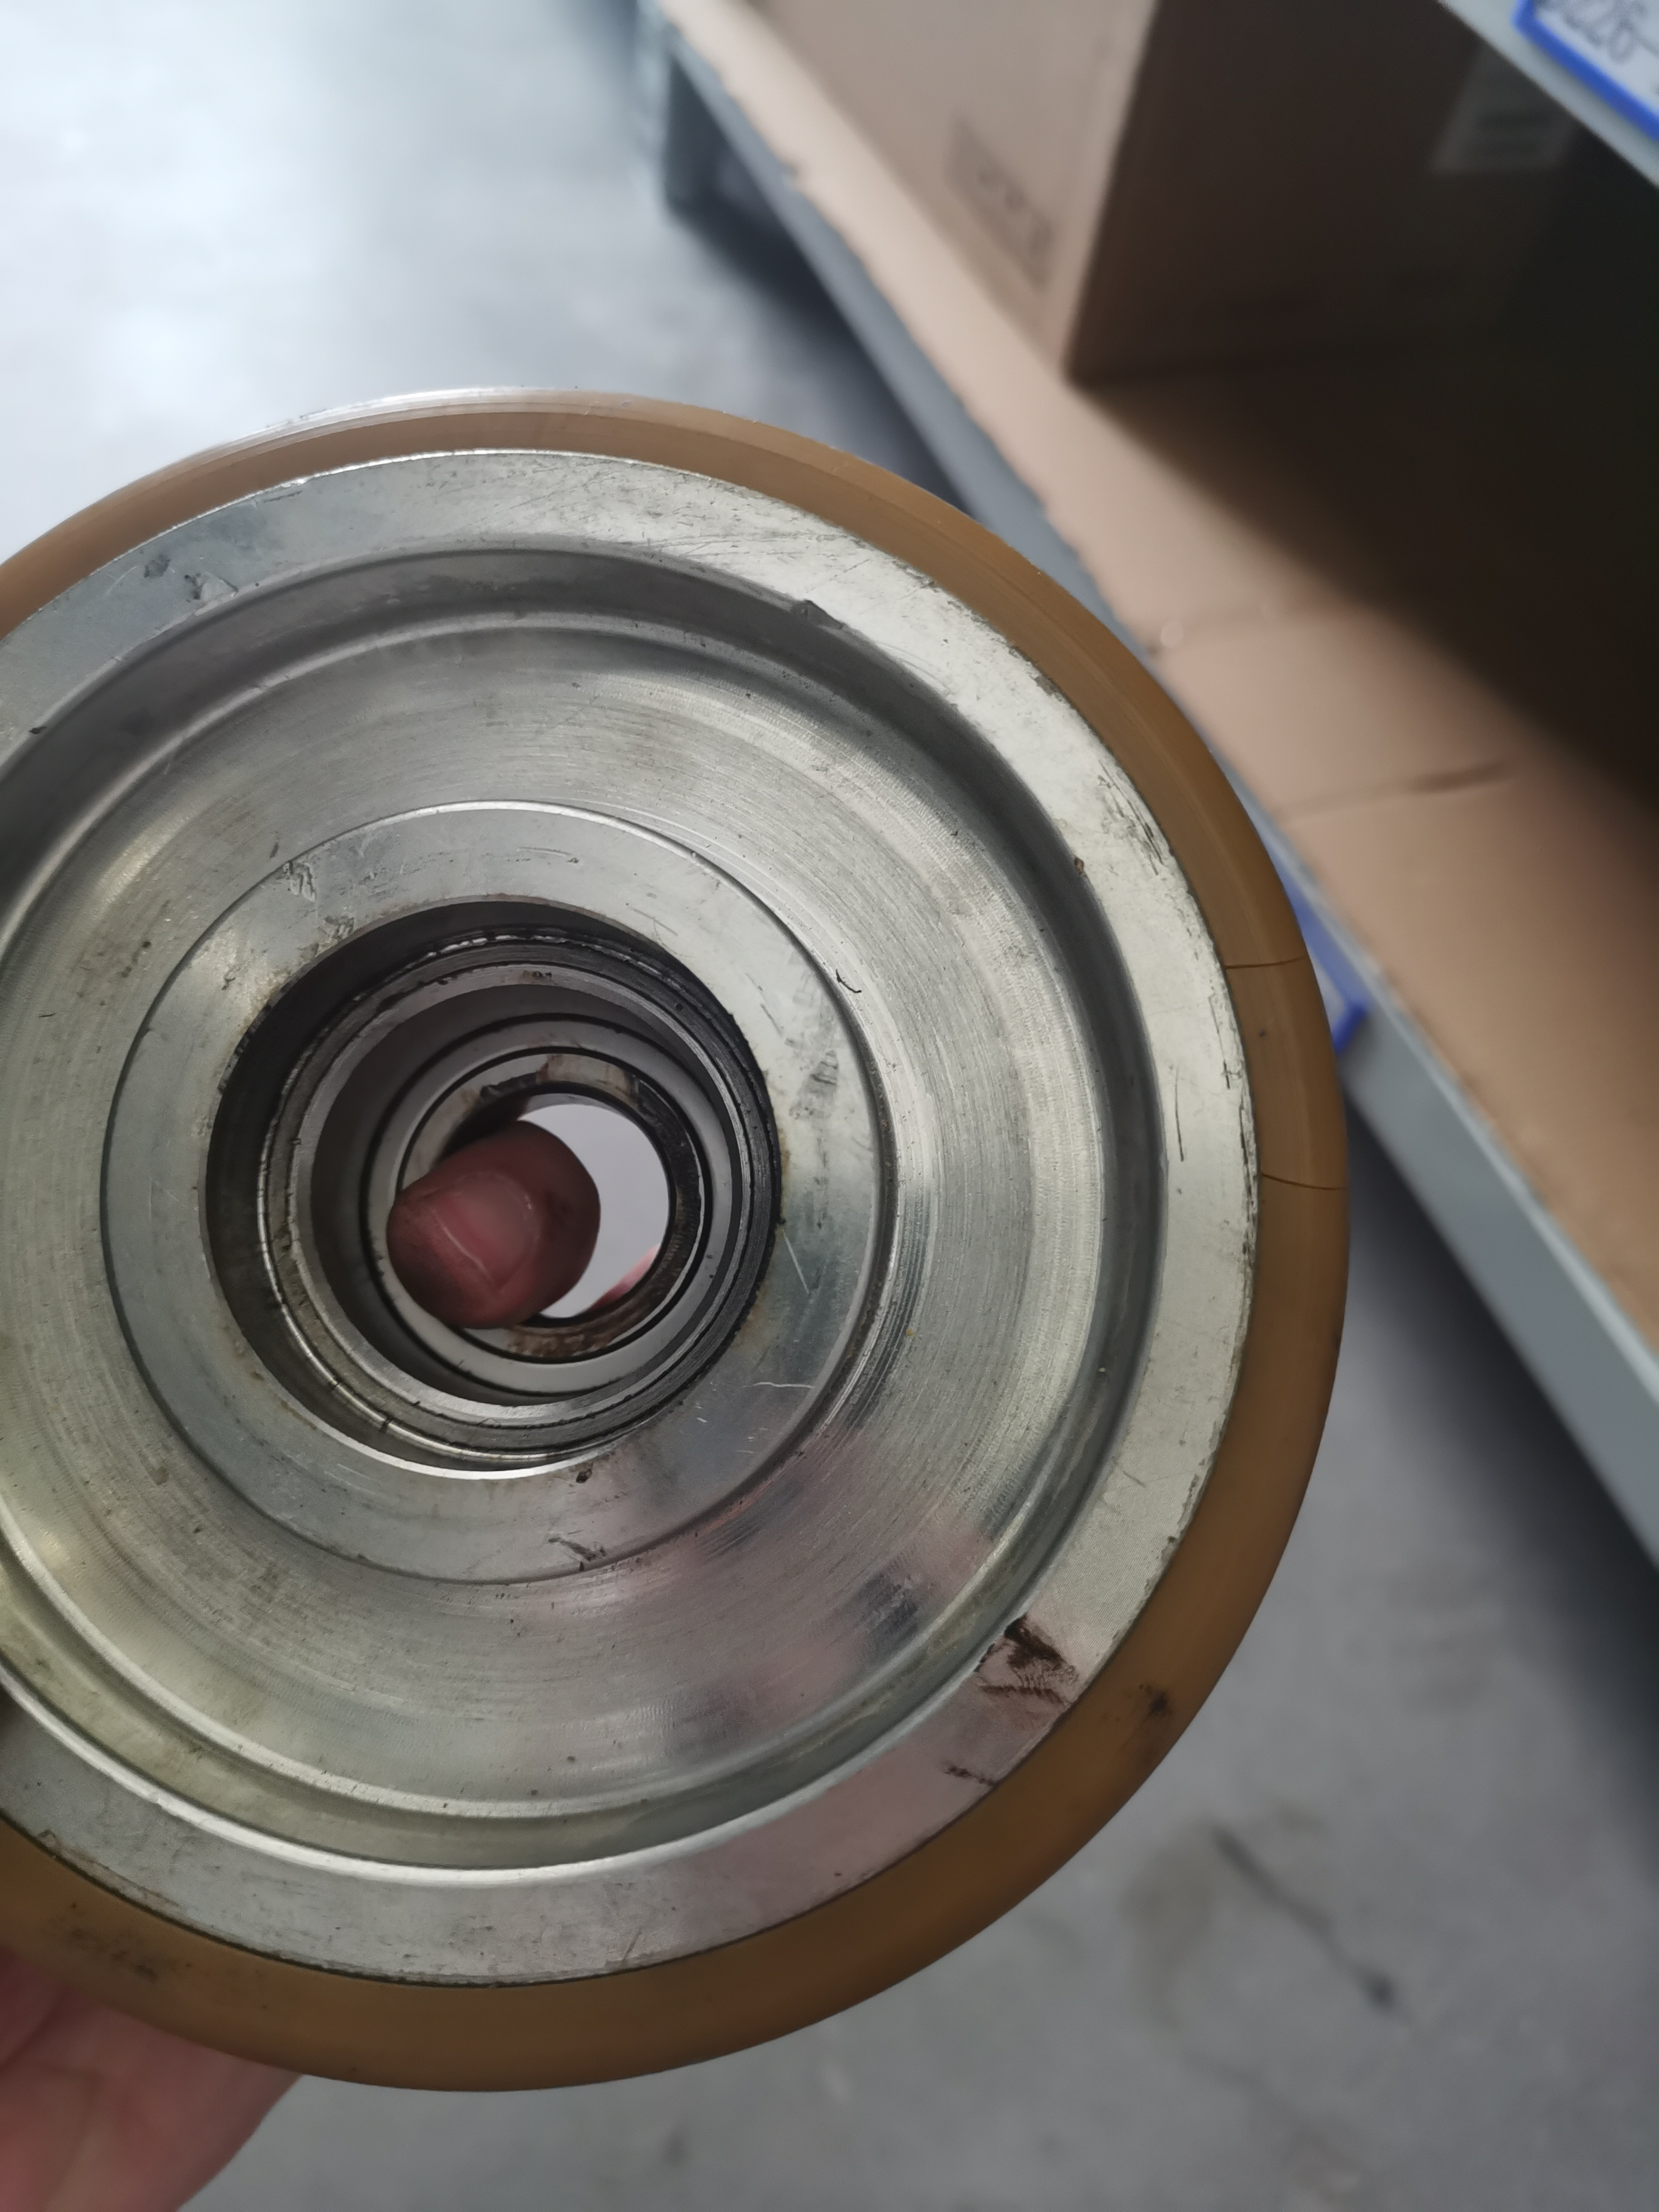bad_wheel: (155, 927, 807, 1507)
